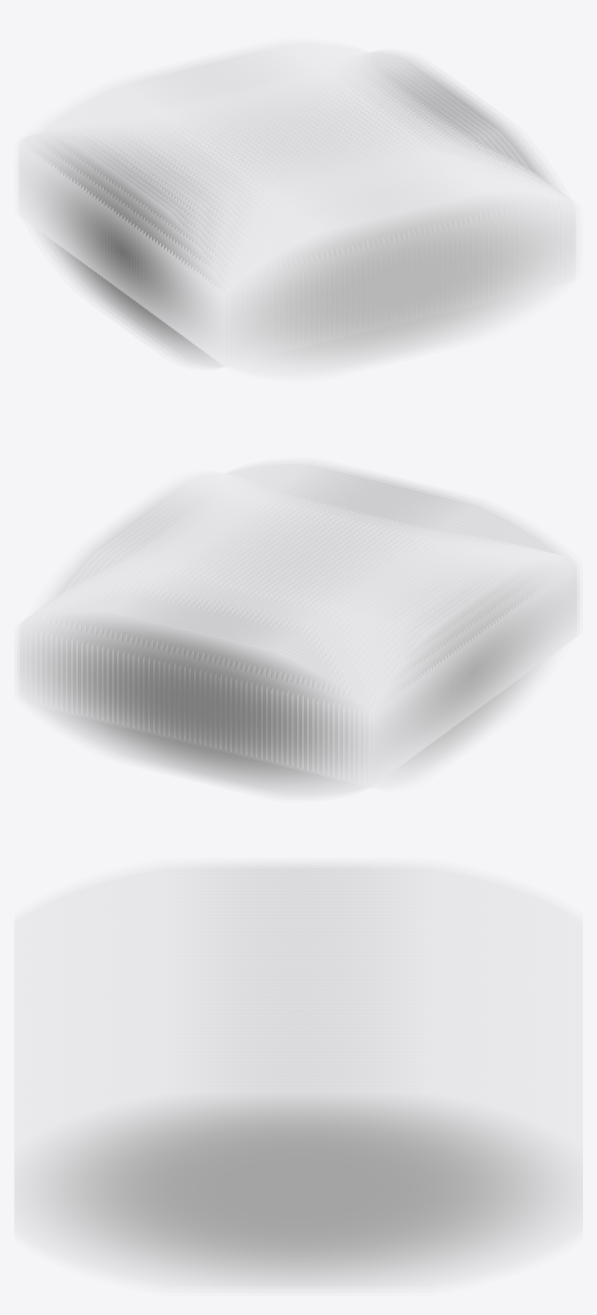
The picture shows the model from 3 angles, top to bottom: view 1: azimuth 30°, elevation 25°; view 2: azimuth 150°, elevation 25°; view 3: azimuth 270°, elevation 25°; orthographic projection. The views are drawn at different scales.
Parts seen in each view (by area): view 1: fog1, fog; view 2: fog1, fog; view 3: fog.
Part boxes in pixels (x1,y1,x2,y2): fog1: [20, 44, 576, 375]; fog: [37, 55, 552, 363]; fog1: [20, 464, 576, 795]; fog: [43, 476, 556, 784]; fog: [14, 864, 582, 1290].
Bounding box in the file's own units: 37.98 × 15.2 × 38.01.
1 material, 1 textured.
